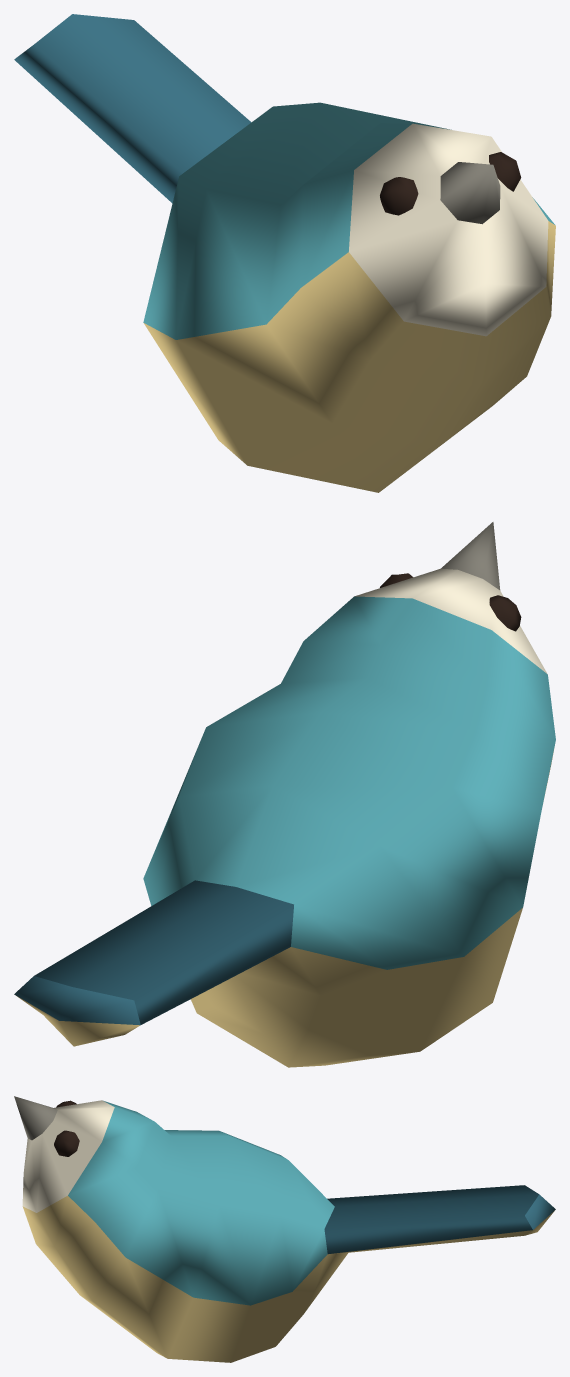
The model's file is itch_assetquest_pond_bird_1.glb.
3 renders of one model, top to bottom at view 1: azimuth 30°, elevation 25°; view 2: azimuth 150°, elevation 25°; view 3: azimuth 270°, elevation 25°, orthographic. The views are drawn at different scales.
Visible parts, largest first — view 1: Bird_1; view 2: Bird_1; view 3: Bird_1.
Part boxes in pixels (x1,y1,x2,y2): Bird_1: (14,14,555,492); Bird_1: (14,522,555,1067); Bird_1: (14,1096,555,1362).
Size of the model in its own units: 0.4431 by 0.5133 by 0.96.
